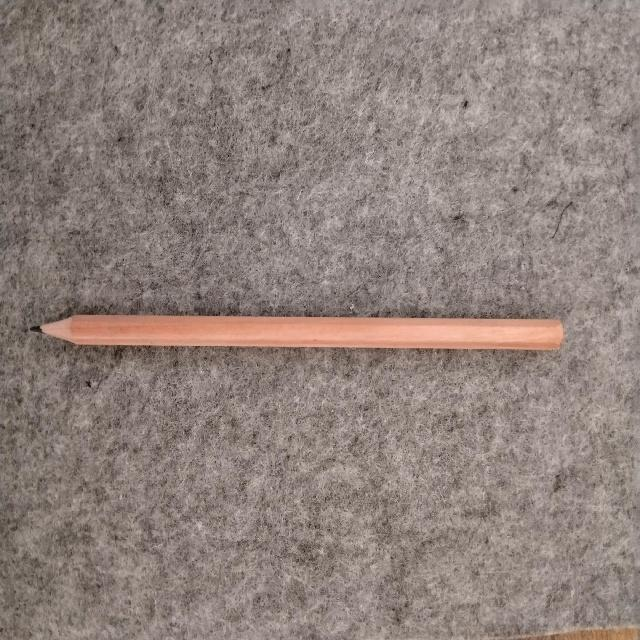pencil: (33, 315, 562, 349)
